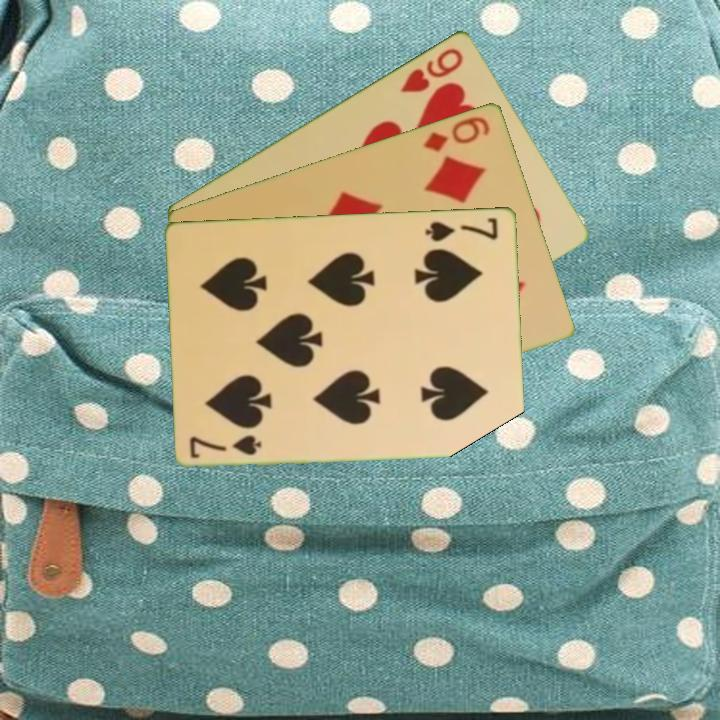6d: (420, 112, 493, 154)
7s: (422, 213, 501, 244), (186, 431, 265, 461)
9h: (396, 44, 466, 95)
